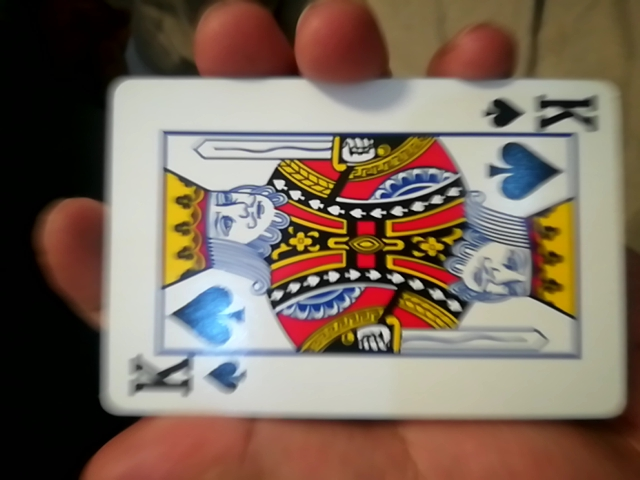ht k: (89, 78, 627, 423)
